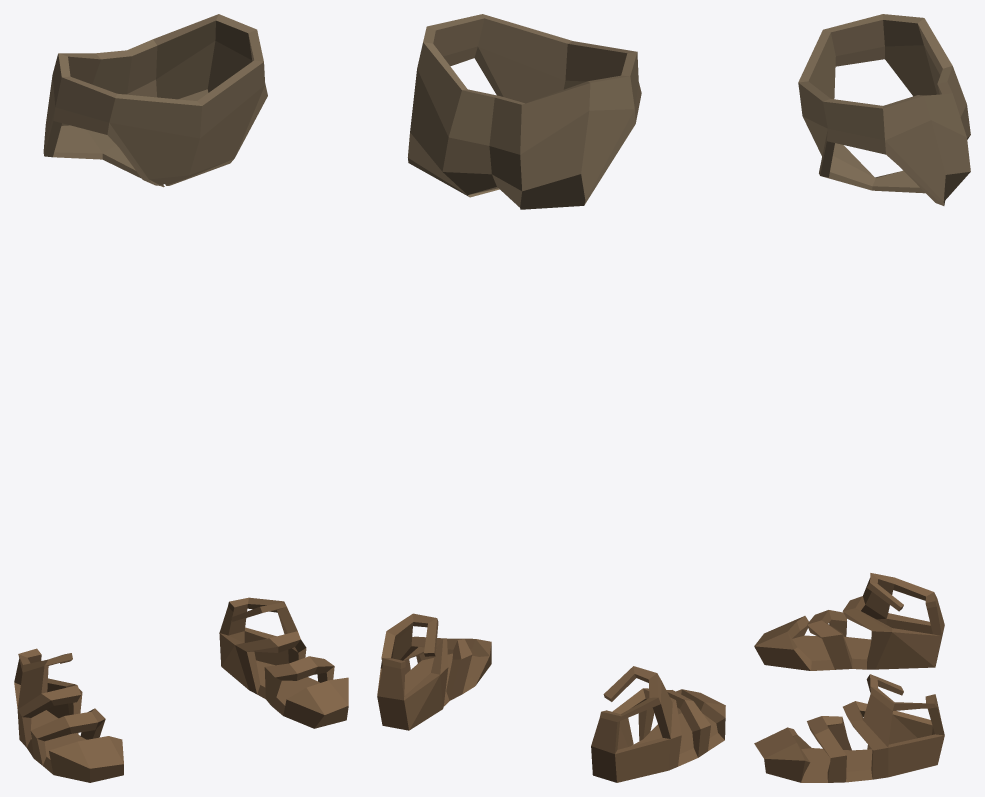
File: M Citizen Shorts.fbx
3 views of the same model, side by side, from view 1: azimuth 30°, elevation 25°; view 2: azimuth 150°, elevation 25°; view 3: azimuth 270°, elevation 25° (orthographic). The views are drawn at different scales.
Parts seen in each view (by area): view 1: M Citizen Shorts; view 2: M Citizen Shorts; view 3: M Citizen Shorts.
Boxes of the visible parts, x1,y1,x2,y2 form: M Citizen Shorts: (14,14,348,782); M Citizen Shorts: (377,14,725,782); M Citizen Shorts: (754,14,970,782).
Size of the model in its own units: 100 by 212 by 63.32.
